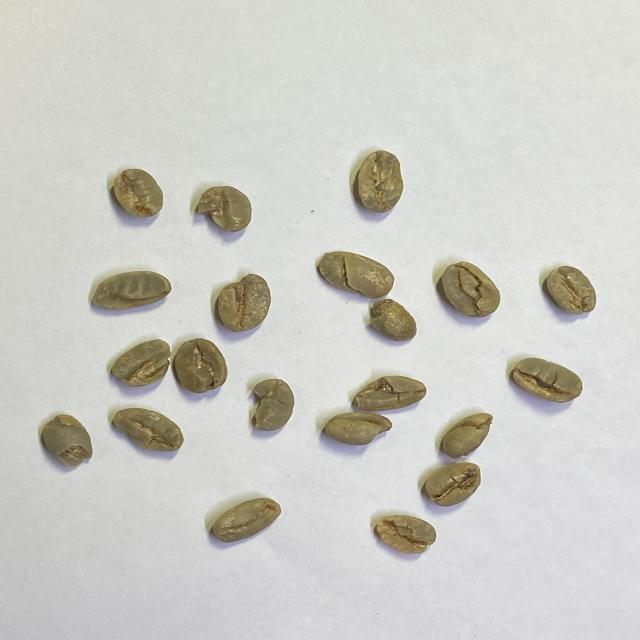bad: (317, 250, 395, 300), (441, 260, 503, 319), (510, 356, 584, 404), (89, 270, 173, 311), (212, 496, 282, 544), (112, 407, 185, 453), (217, 272, 272, 333), (355, 148, 405, 214), (173, 338, 230, 394), (110, 338, 172, 387), (350, 374, 428, 412), (40, 414, 94, 468), (545, 264, 600, 316), (196, 185, 254, 234), (424, 462, 483, 508), (112, 167, 164, 219), (374, 514, 438, 555), (440, 412, 495, 459), (323, 411, 394, 447), (250, 377, 296, 432), (368, 298, 418, 343)
